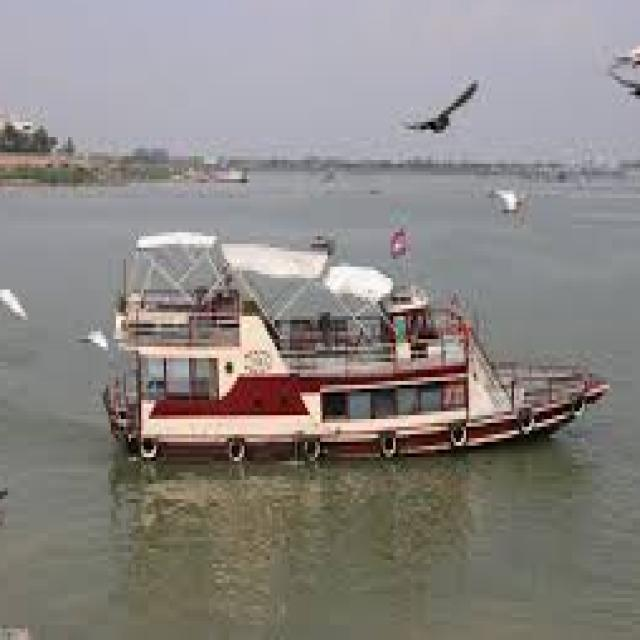houseboat: (114, 197, 595, 483)
